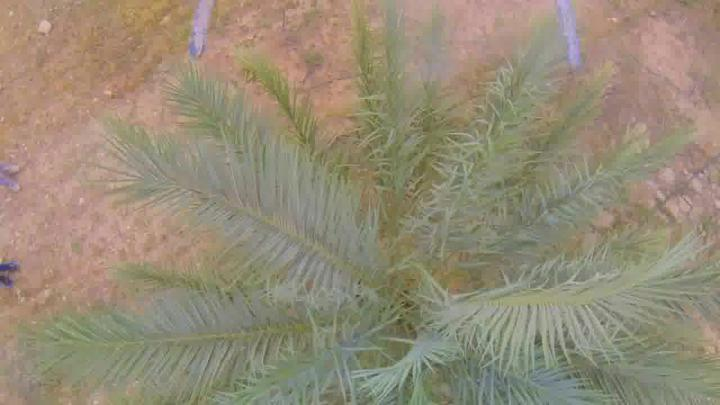Date-Palm-Crown: (264, 146, 606, 404)
